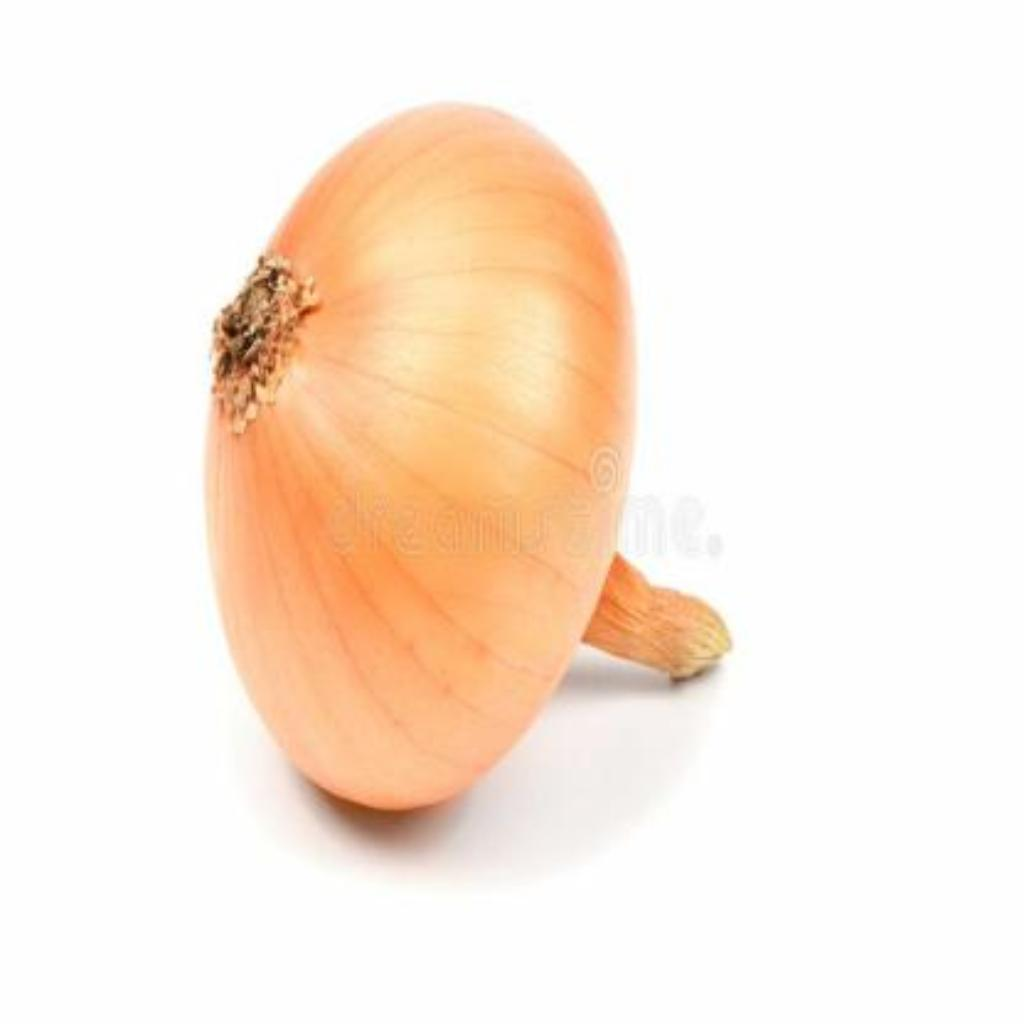Onion: (207, 103, 731, 811)
